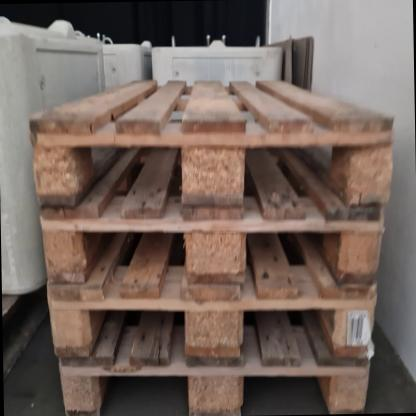BoxFace: (32, 77, 396, 205), (41, 213, 384, 290), (46, 286, 377, 361), (59, 366, 368, 416)
